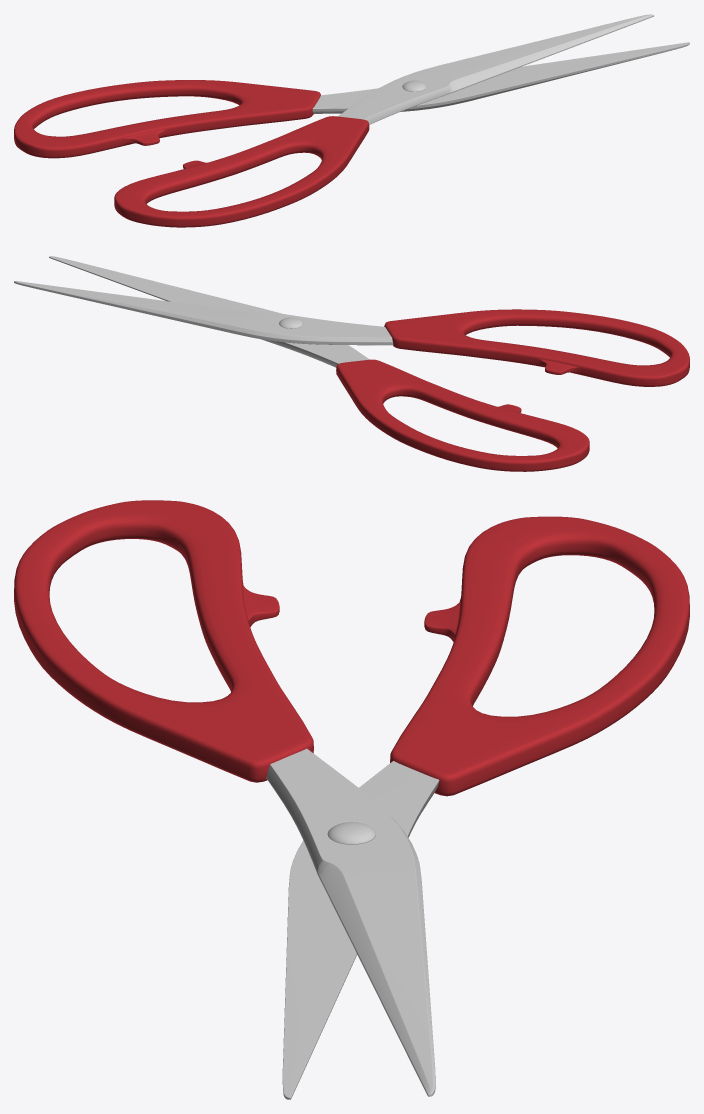
Rendered from Scissors.obj.
3 views of the same model, one above another, from view 1: azimuth 30°, elevation 25°; view 2: azimuth 150°, elevation 25°; view 3: azimuth 270°, elevation 25° (orthographic). The views are drawn at different scales.
Visible parts, largest first — view 1: Scissors001; view 2: Scissors001; view 3: Scissors001.
Boxes of the visible parts, box(x1,y1,x2,y2) form: Scissors001: box(14, 14, 689, 227); Scissors001: box(14, 256, 689, 471); Scissors001: box(14, 500, 689, 1099).
Bounding box in the file's own units: 3.51 × 0.1176 × 1.73.
